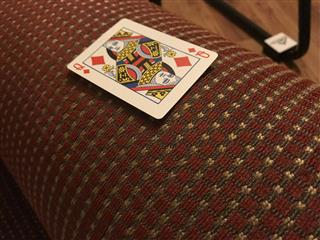QueenOfDiamonds: (65, 17, 218, 120)
